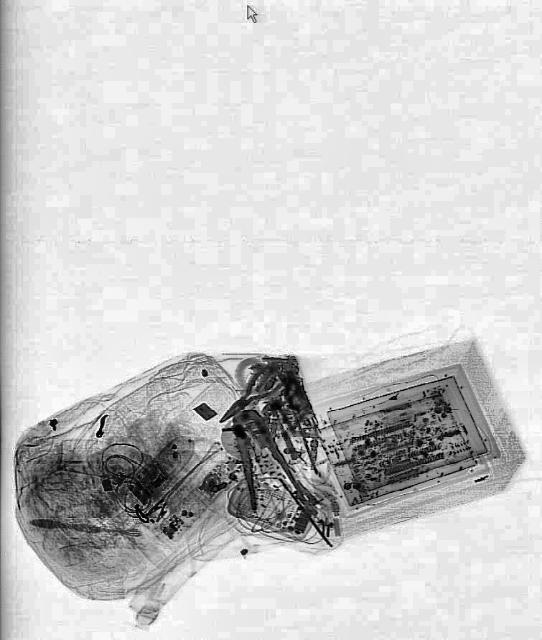Pliers: (218, 400, 302, 518), (211, 362, 285, 434)
